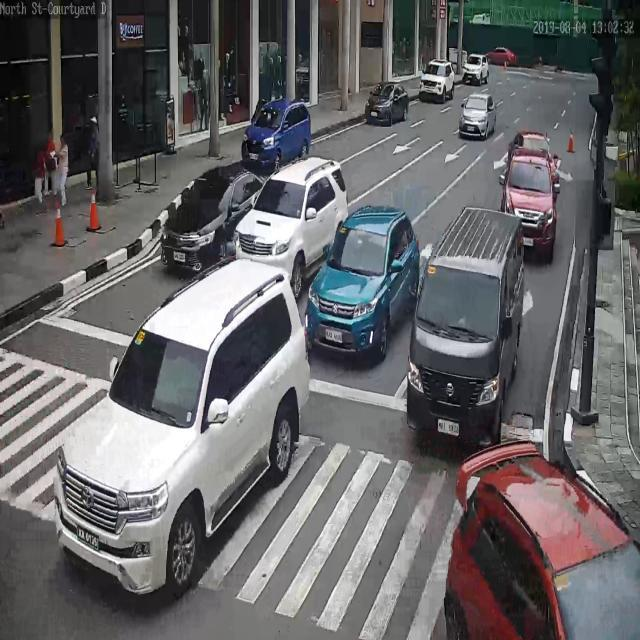car: (59, 269, 309, 596), (451, 440, 639, 639), (303, 205, 419, 363), (233, 158, 350, 294), (165, 159, 258, 276), (499, 144, 560, 256), (240, 97, 312, 172), (504, 131, 560, 181), (367, 81, 411, 128), (458, 93, 497, 139), (418, 61, 457, 107), (461, 57, 489, 87), (483, 48, 515, 67)
van: (406, 195, 522, 451)
